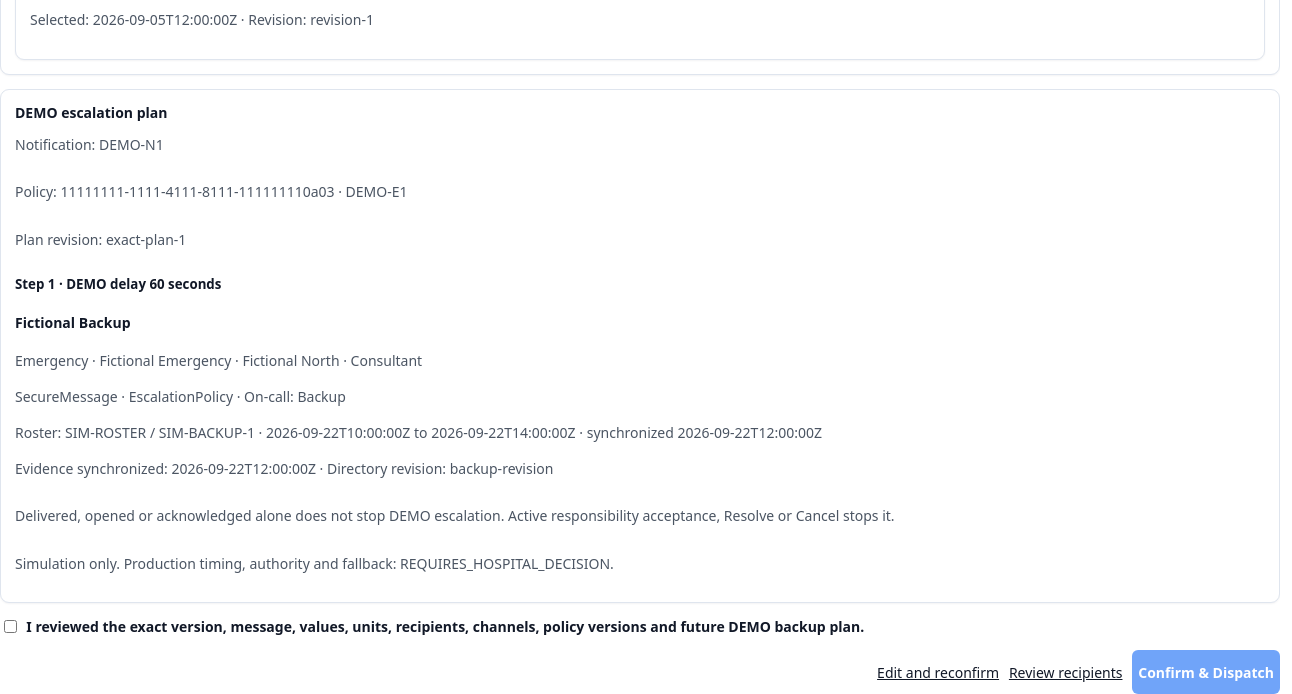
Test case: network retry uses the same exact version and idempotency key and replay succeeds
(page scrolled)
Click the checkbox labelled "I reviewed the exact": point(10, 627) 4,620 -> 17,633
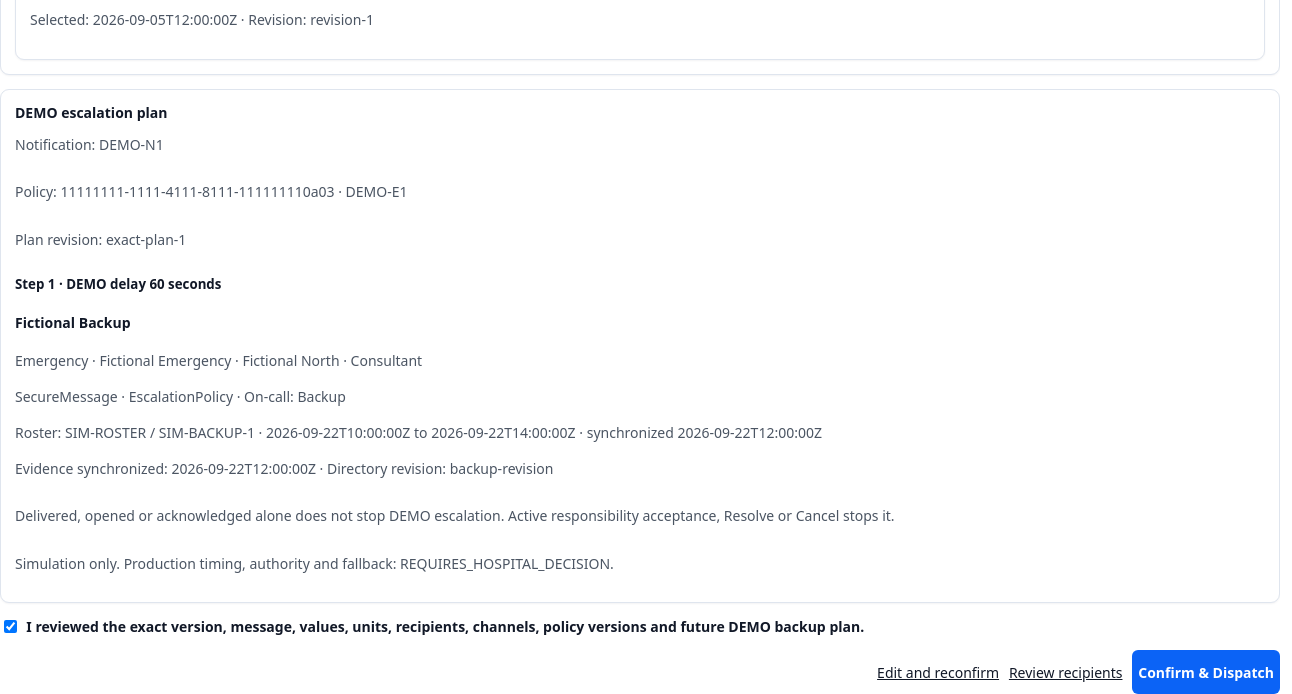
Click the button "Confirm & Dispatch": point(1206, 672) 1132,650 -> 1280,693
(page scrolled)
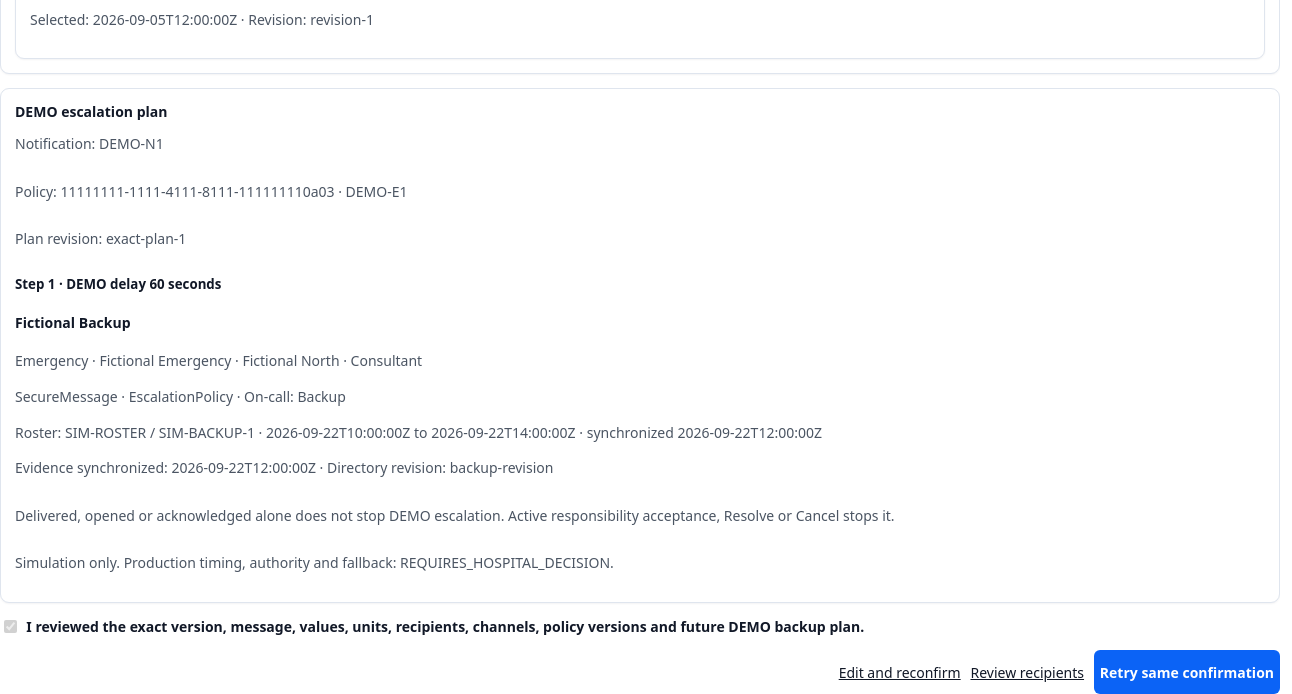
Click the button "Retry same confirmation": point(1187, 672) 1094,650 -> 1280,693
(page scrolled)
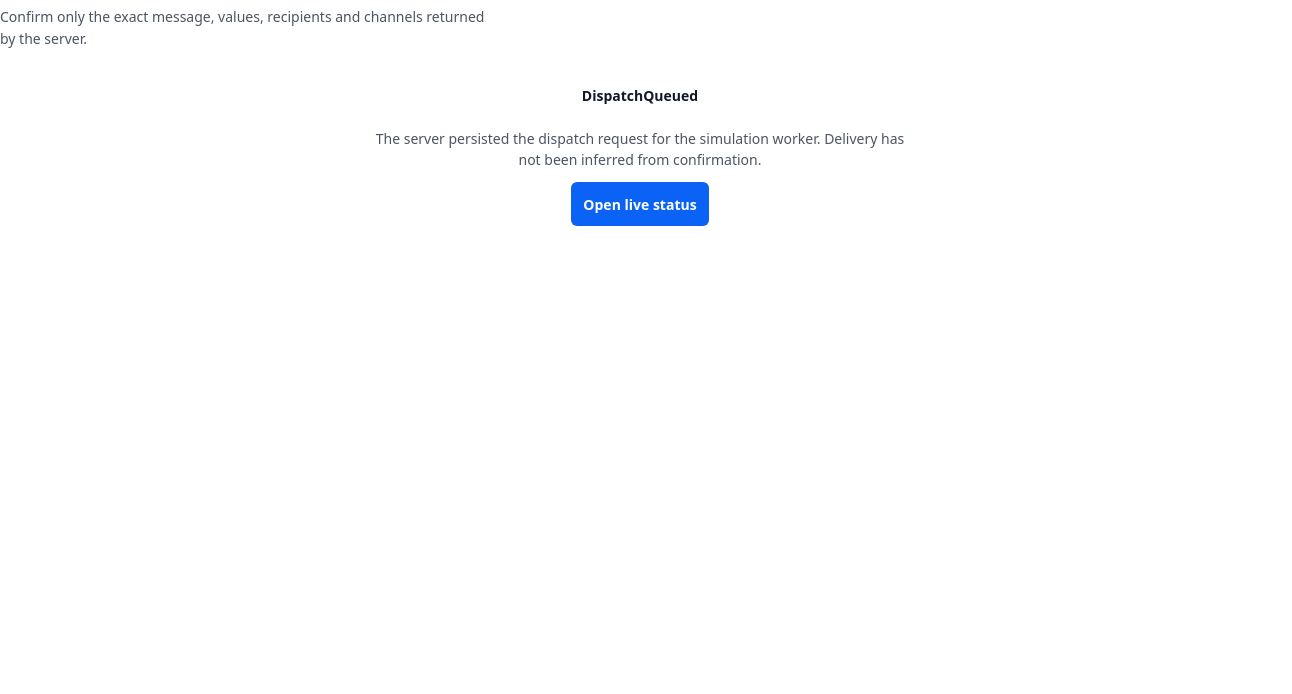
Expected: the heading "DispatchQueued" is shown, 582,87 -> 698,105
